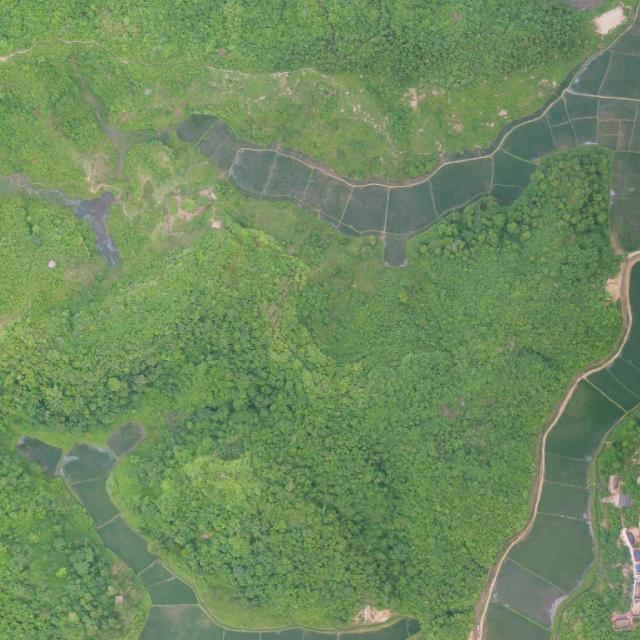agricultural_land: (51, 163, 149, 270)
greenland: (555, 408, 640, 640)
